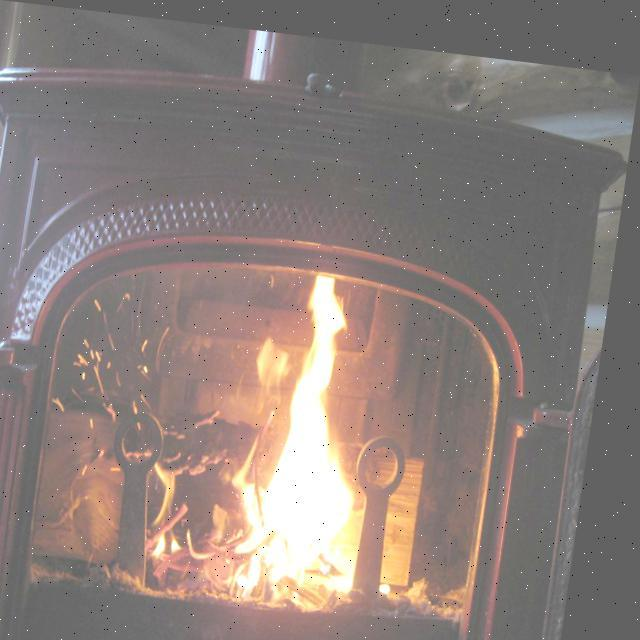Fire: (205, 264, 395, 602)
